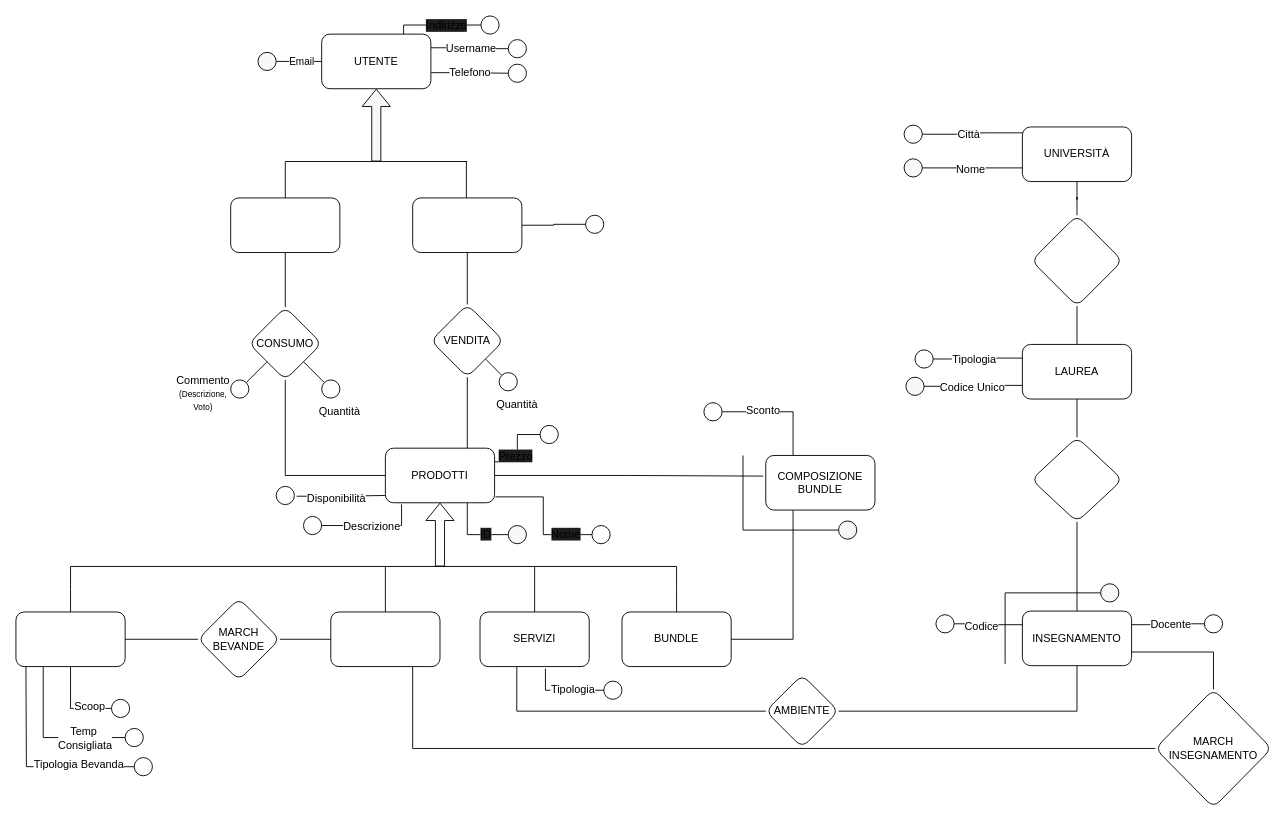
This 1288x824 diagram has some shape labels left out. The shapes that lost their labels are listed below. From the top down, each one's centre as x and y in pixels, then its label:
point (285, 225): CONSUMATORE
point (467, 225): VENDITORE
point (1076, 260): OFFERTA FORMATIVA
point (1076, 479): PROGRAMMA
point (70, 639): BEVANDE
point (385, 639): MARCH
